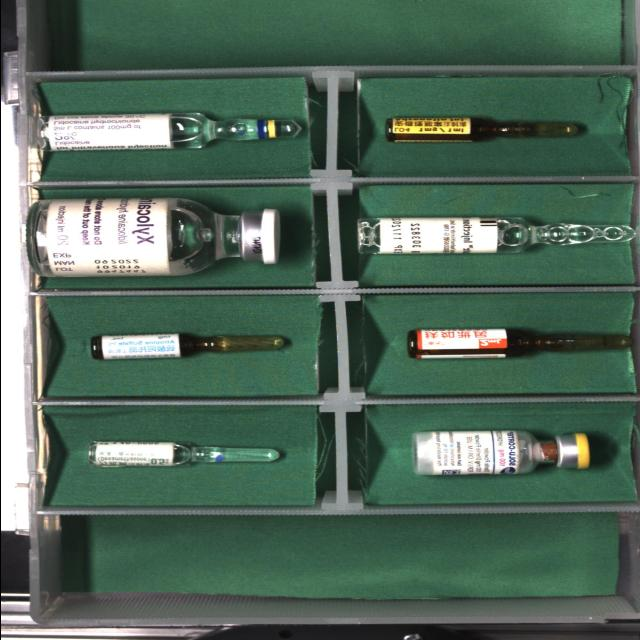Vials: (28, 199, 279, 277), (413, 430, 589, 475)
